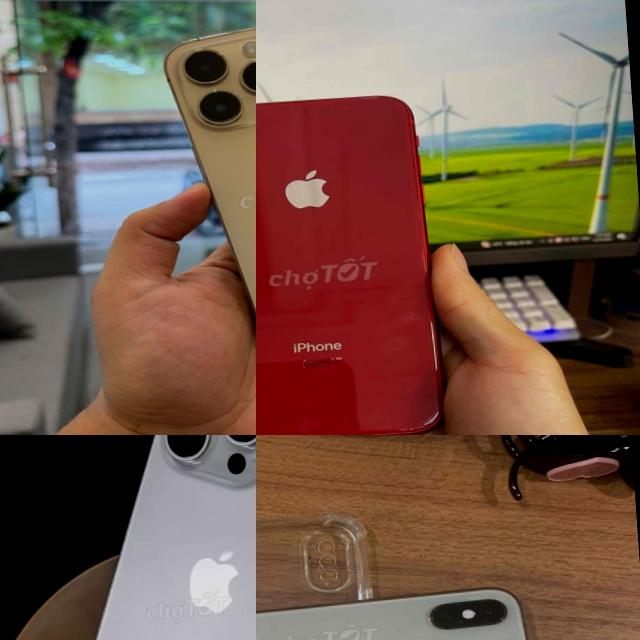scratch: (395, 416, 432, 435)
